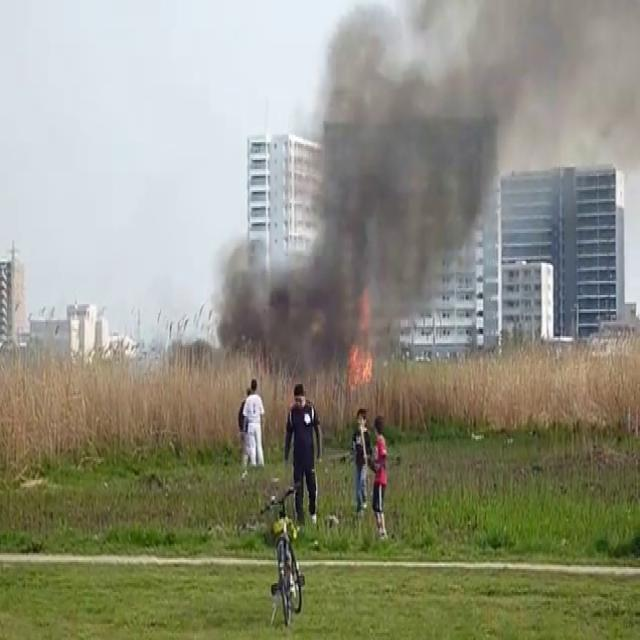Fire: (344, 335, 374, 393)
Smoke: (221, 0, 640, 356)
